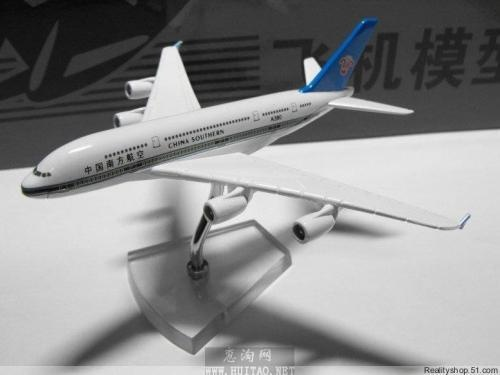airplane: (16, 19, 486, 233)
